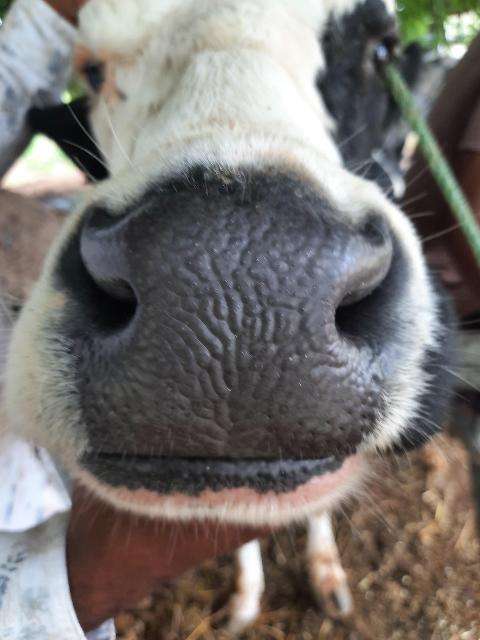Muzzle: (75, 208, 371, 454)
